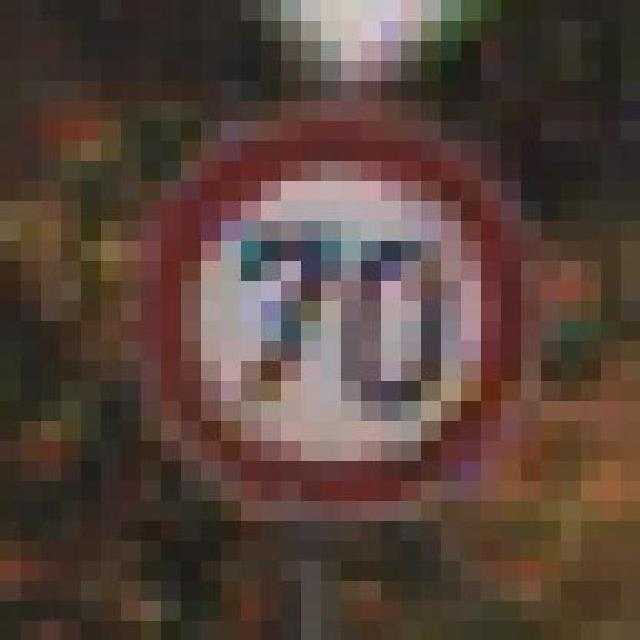forb_speed_over_70: (148, 119, 525, 505)
